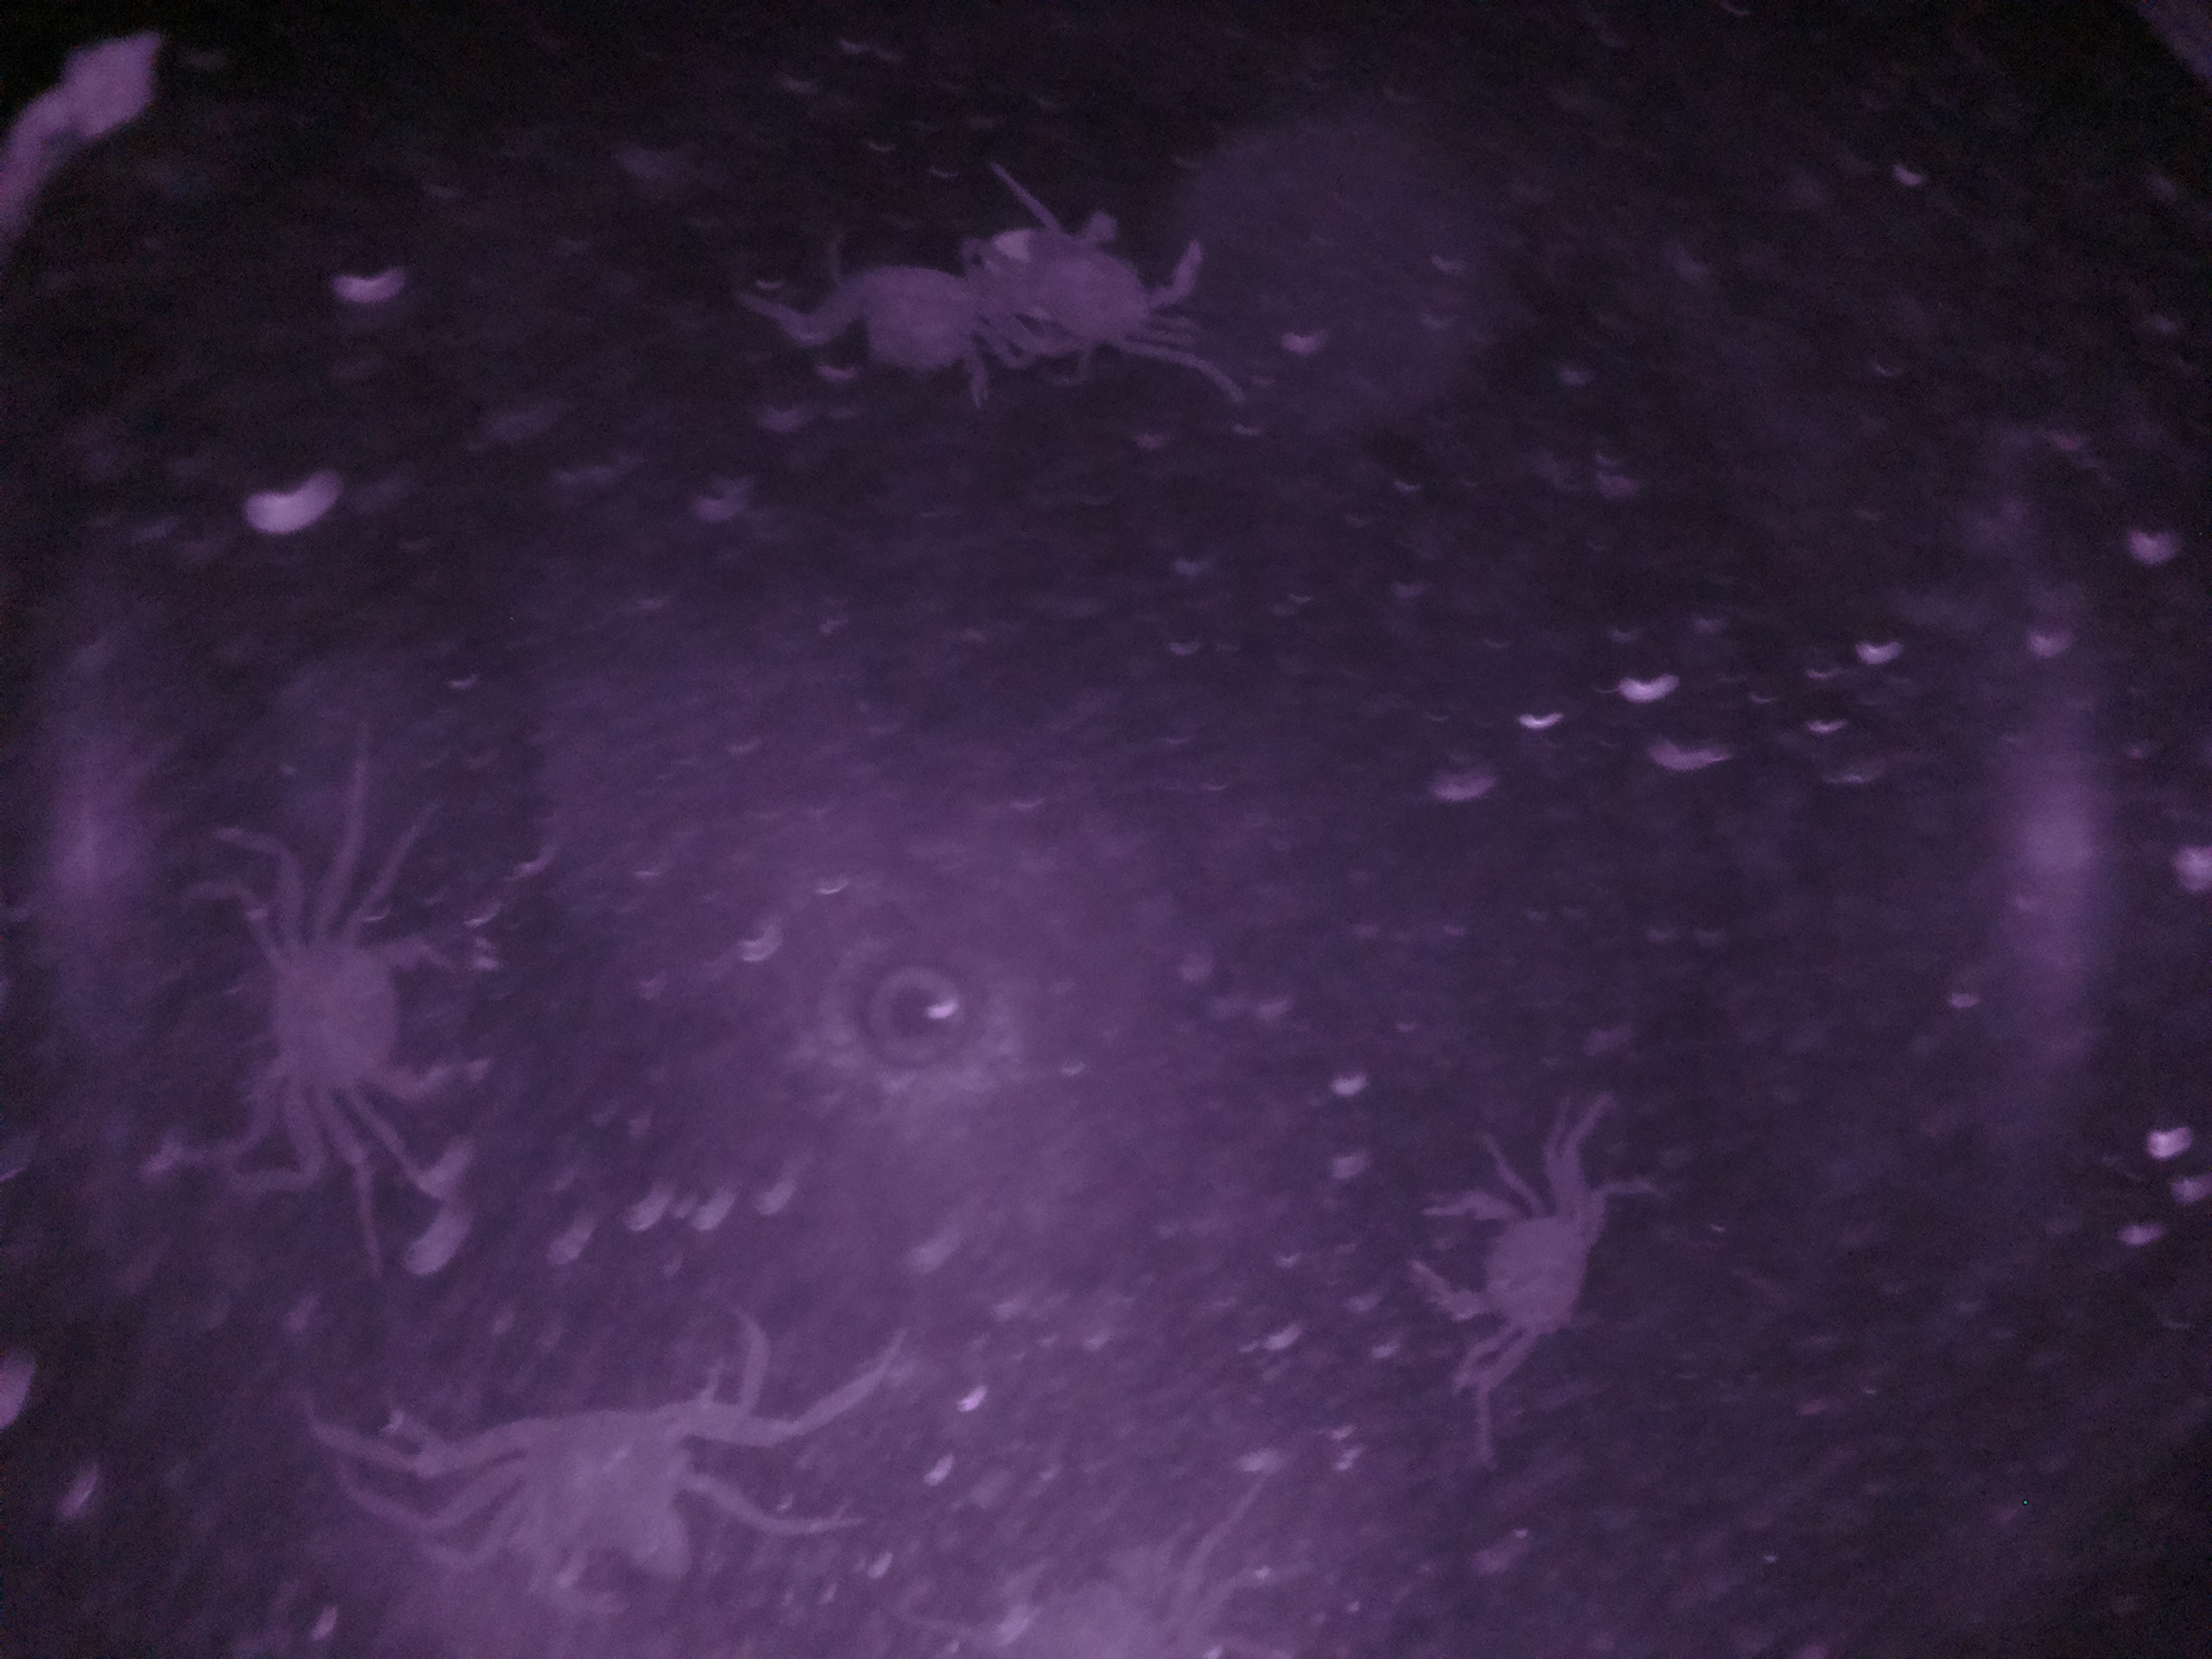Crab: (437, 1377, 730, 1628), (221, 897, 524, 1138), (1395, 1161, 1616, 1375)
